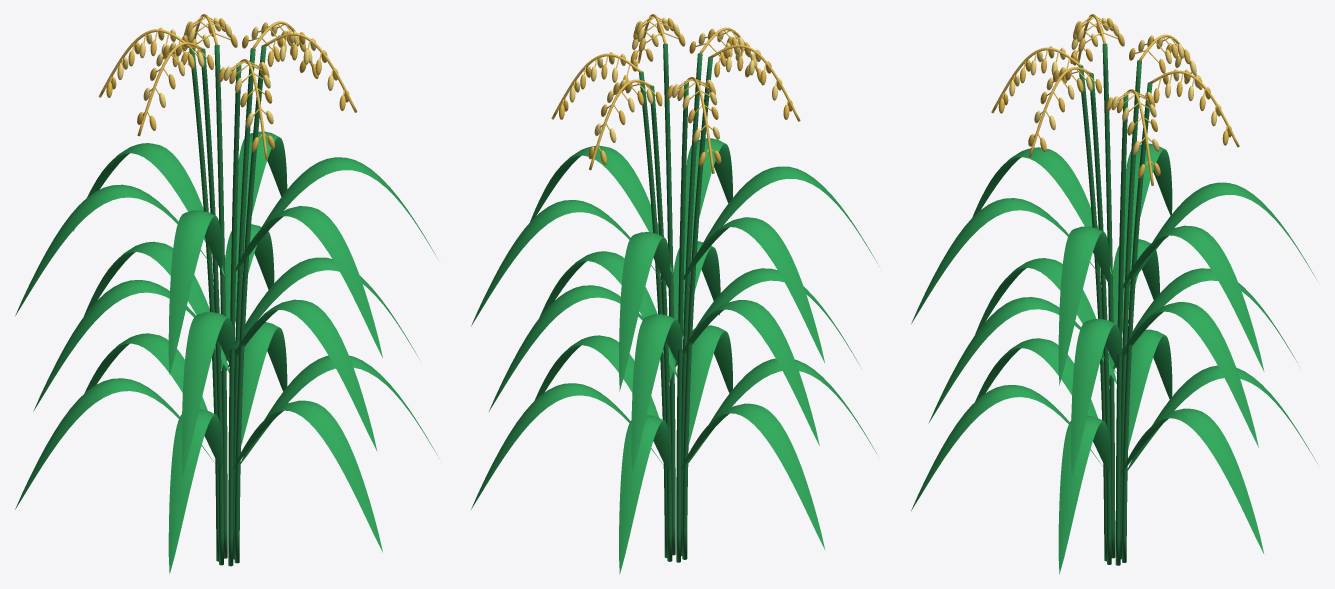
The model's file is SM_BFF_RicePlant.fbx.
3 renders of one model, left to right at view 1: azimuth 30°, elevation 25°; view 2: azimuth 150°, elevation 25°; view 3: azimuth 270°, elevation 25°, orthographic. The views are drawn at different scales.
Visible parts, largest first — view 1: SM_BFF_RicePlant; view 2: SM_BFF_RicePlant; view 3: SM_BFF_RicePlant.
Part boxes in pixels (x1,y1,x2,y2): SM_BFF_RicePlant: [15, 14, 439, 573]; SM_BFF_RicePlant: [471, 14, 879, 574]; SM_BFF_RicePlant: [911, 14, 1317, 574].
Bounding box in the file's own units: 54.12 × 54.29 × 75.66.
